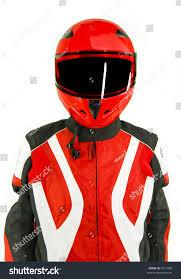Helmet: (55, 19, 137, 128)
